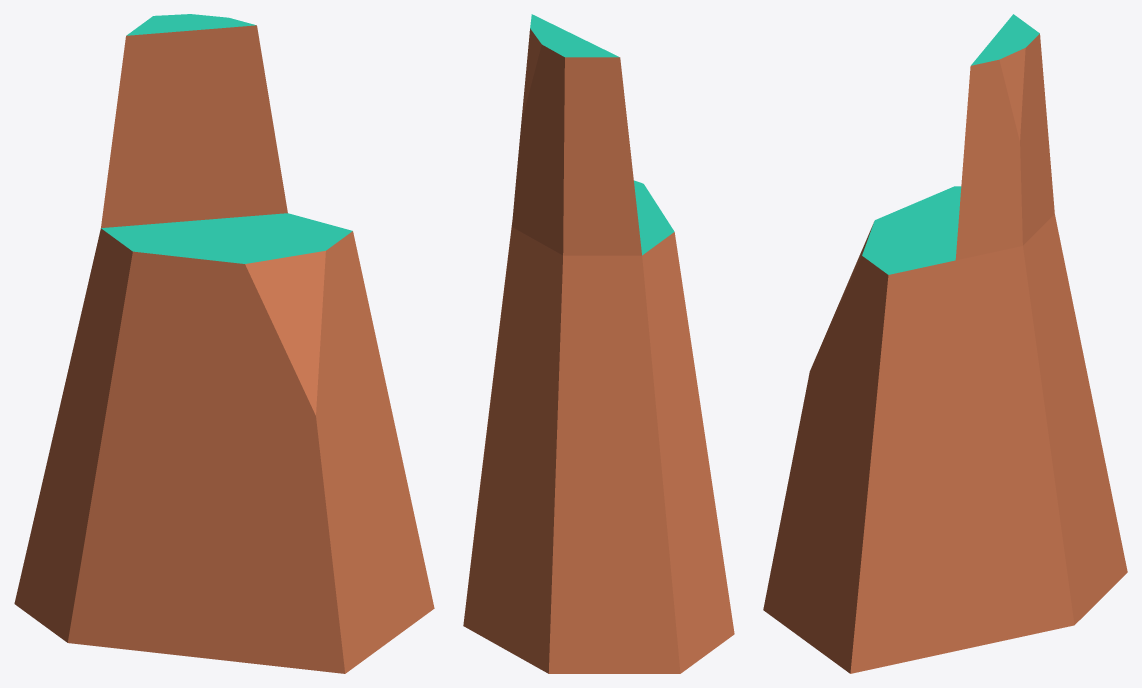
The model's file is rock_tallD.dae.
3 views of the same model, side by side, from view 1: azimuth 30°, elevation 25°; view 2: azimuth 150°, elevation 25°; view 3: azimuth 270°, elevation 25° (orthographic). The views are drawn at different scales.
Parts seen in each view (by area): view 1: rock_tallD; view 2: rock_tallD; view 3: rock_tallD.
Boxes of the visible parts, bbox=[...] form: rock_tallD: bbox=[14, 14, 434, 673]; rock_tallD: bbox=[463, 14, 734, 673]; rock_tallD: bbox=[763, 14, 1127, 673].
Bounding box in the file's own units: 0.4428 × 0.7721 × 0.4615.
